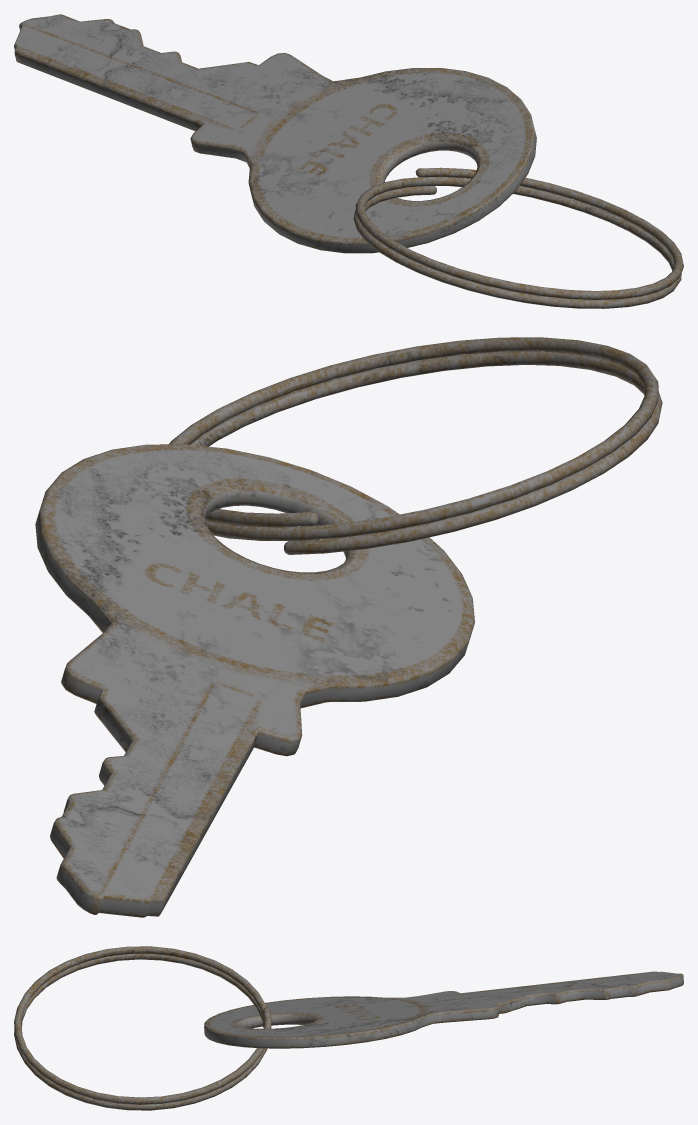
File: Key.fbx
3 renders of one model, top to bottom at view 1: azimuth 30°, elevation 25°; view 2: azimuth 150°, elevation 25°; view 3: azimuth 270°, elevation 25°, orthographic. The views are drawn at different scales.
Parts seen in each view (by area): view 1: SM_Ring; view 2: SM_Ring; view 3: SM_Ring.
Part boxes in pixels (left/top/right/bottom): SM_Ring: left=14, top=14, right=683, bottom=308; SM_Ring: left=35, top=337, right=662, bottom=917; SM_Ring: left=14, top=946, right=683, bottom=1110.
Bounding box in the file's own units: 4.79 × 1.18 × 11.4.
